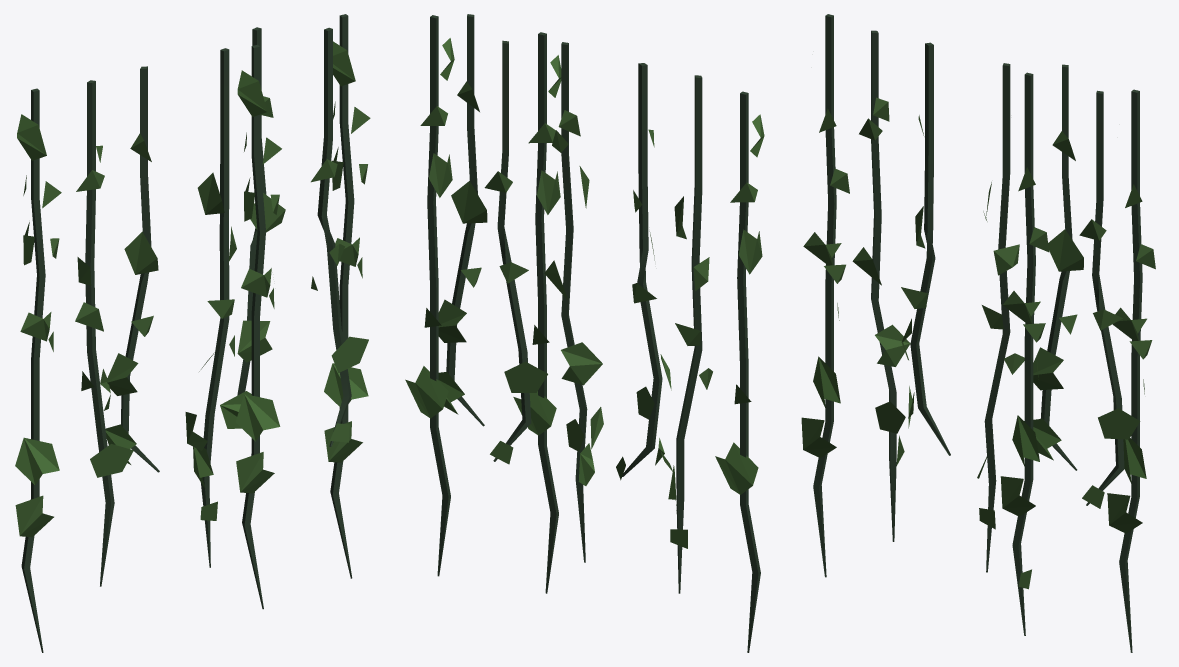
The model's file is SM_Env_Tree_Vines_04.glb.
3 views of the same model, side by side, from view 1: azimuth 30°, elevation 25°; view 2: azimuth 150°, elevation 25°; view 3: azimuth 330°, elevation 25° (orthographic).
Visible parts, largest first — view 1: SM_Env_Tree_Vines_04; view 2: SM_Env_Tree_Vines_04; view 3: SM_Env_Tree_Vines_04.
Boxes of the visible parts, x1,y1,x2,y2 form: SM_Env_Tree_Vines_04: (15,14,370,652); SM_Env_Tree_Vines_04: (405,14,764,652); SM_Env_Tree_Vines_04: (801,14,1155,652).
Bounding box in the file's own units: 0.0207 × 0.0305 × 0.00431.
